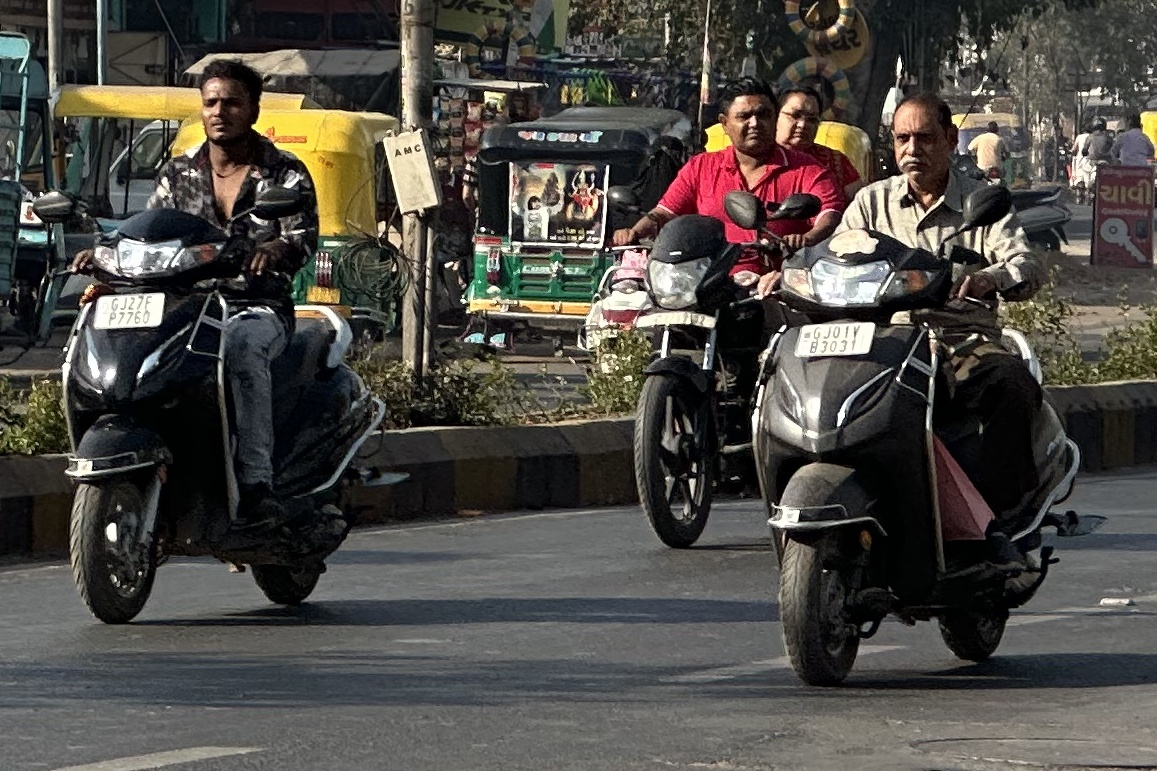BikeWithRider: (718, 82, 1112, 690), (25, 53, 414, 628), (597, 71, 872, 551)
NoHelmet: (886, 89, 962, 189), (192, 56, 272, 151), (719, 82, 779, 155), (774, 84, 826, 152)
